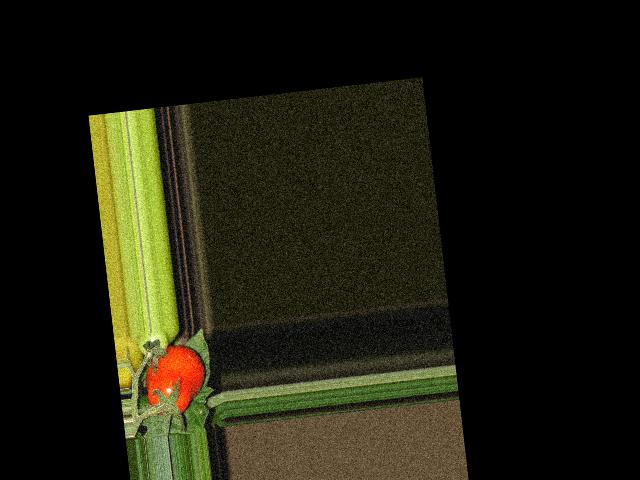tomato: (142, 342, 209, 418)
